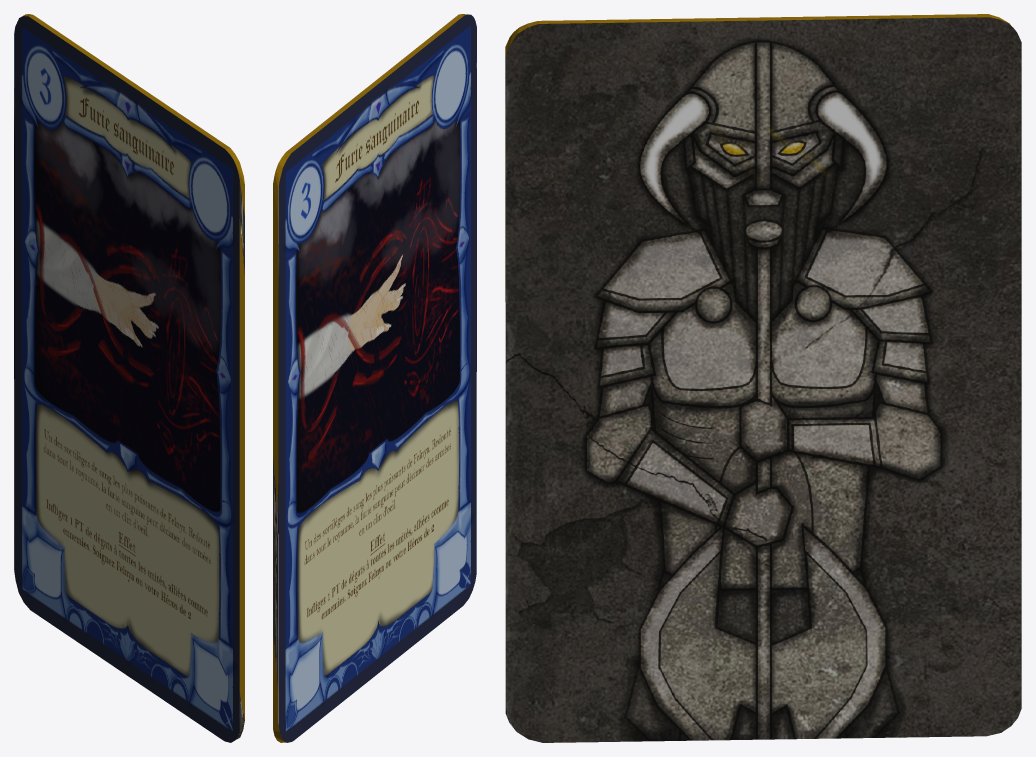
Rendered from sort2sang.fbx.
3 renders of one model, left to right at view 1: azimuth 30°, elevation 25°; view 2: azimuth 150°, elevation 25°; view 3: azimuth 270°, elevation 25°, orthographic. The views are drawn at different scales.
Visible parts, largest first — view 1: SortdeSang:pPlane3; view 2: SortdeSang:pPlane3; view 3: SortdeSang:pPlane3.
Boxes of the visible parts, <box> form: SortdeSang:pPlane3: <box>14,14,244,742</box>; SortdeSang:pPlane3: <box>273,14,476,742</box>; SortdeSang:pPlane3: <box>505,14,1021,742</box>.
Bounding box in the file's own units: 0.1625 × 4.99 × 3.24.
3 materials, 2 textured.
